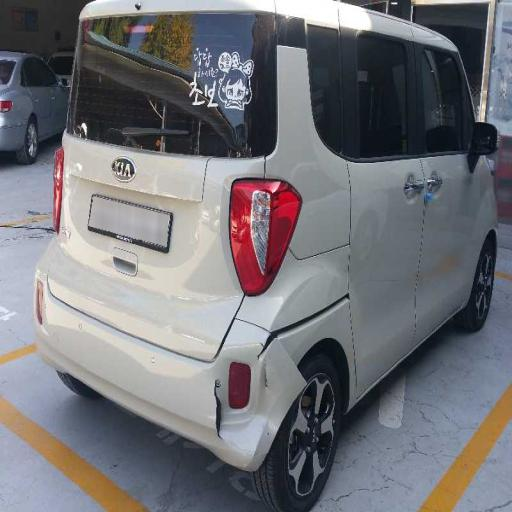broken: (198, 278, 318, 478)
